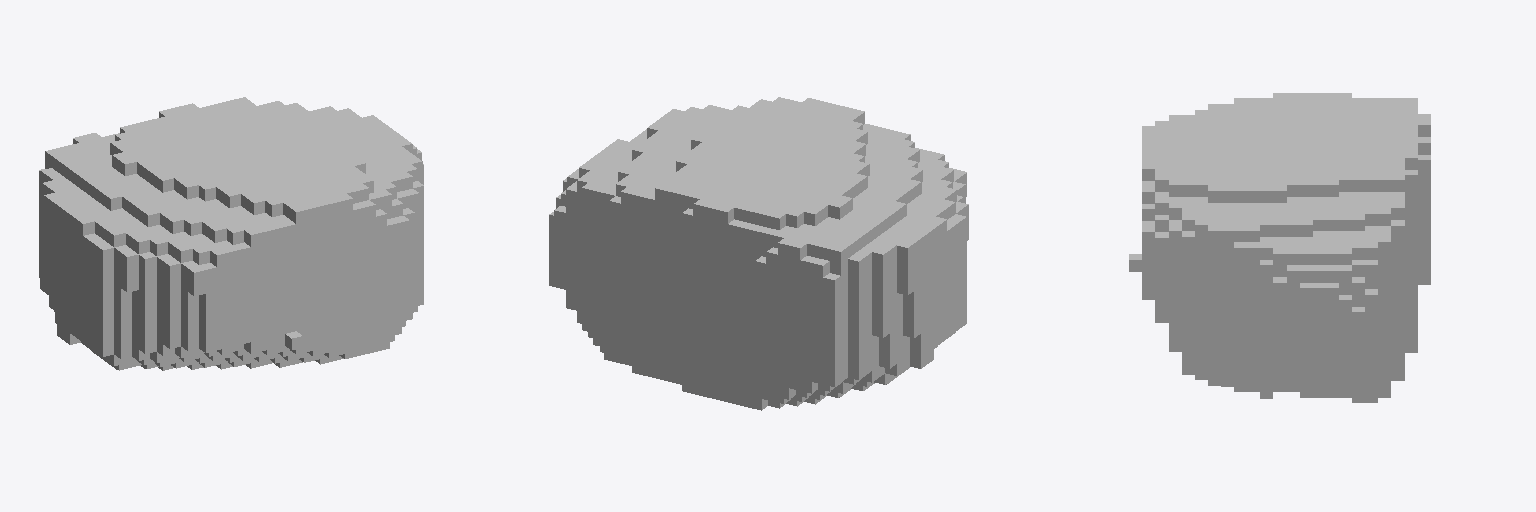
Rendered from rock 1.obj.
3 views of the same model, side by side, from view 1: azimuth 30°, elevation 25°; view 2: azimuth 150°, elevation 25°; view 3: azimuth 270°, elevation 25° (orthographic).
Parts seen in each view (by area): view 1: object 1; view 2: object 1; view 3: object 1.
Boxes of the visible parts, x1=… form: object 1: x1=39, y1=97, x2=423, y2=370; object 1: x1=549, y1=97, x2=968, y2=410; object 1: x1=1129, y1=93, x2=1430, y2=402.
Bounding box in the file's own units: 3.1 × 1.7 × 2.3.